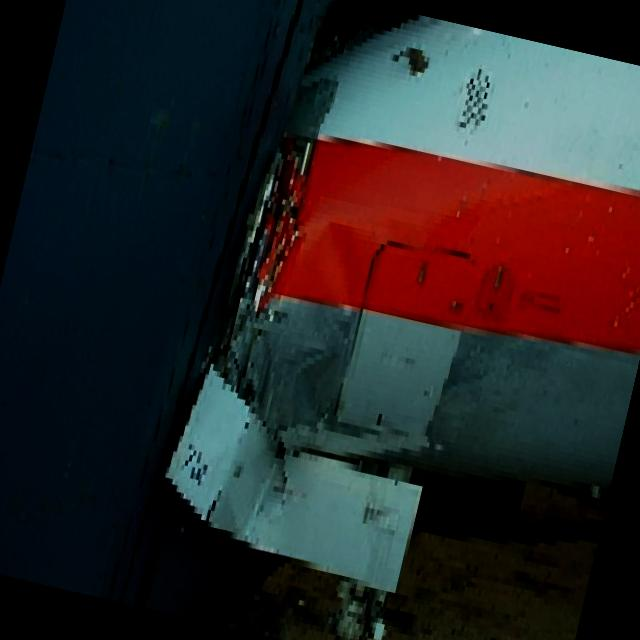dent: (274, 200, 381, 435)
